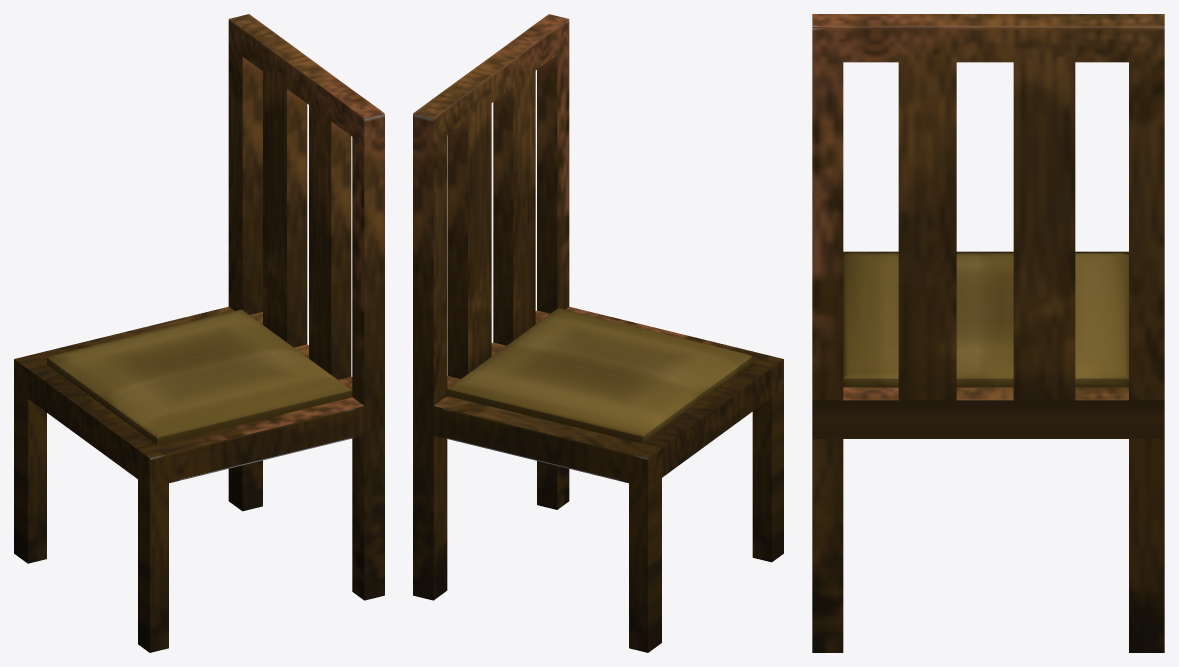
Rendered from Chair.fbx.
3 renders of one model, left to right at view 1: azimuth 30°, elevation 25°; view 2: azimuth 150°, elevation 25°; view 3: azimuth 270°, elevation 25°, orthographic. The views are drawn at different scales.
Parts seen in each view (by area): view 1: Chair; view 2: Chair; view 3: Chair.
Part boxes in pixels (left/top/right/bottom): Chair: left=14, top=14, right=384, bottom=652; Chair: left=413, top=14, right=783, bottom=652; Chair: left=812, top=14, right=1164, bottom=652.
Bounding box in the file's own units: 61.27 × 120 × 61.27.
